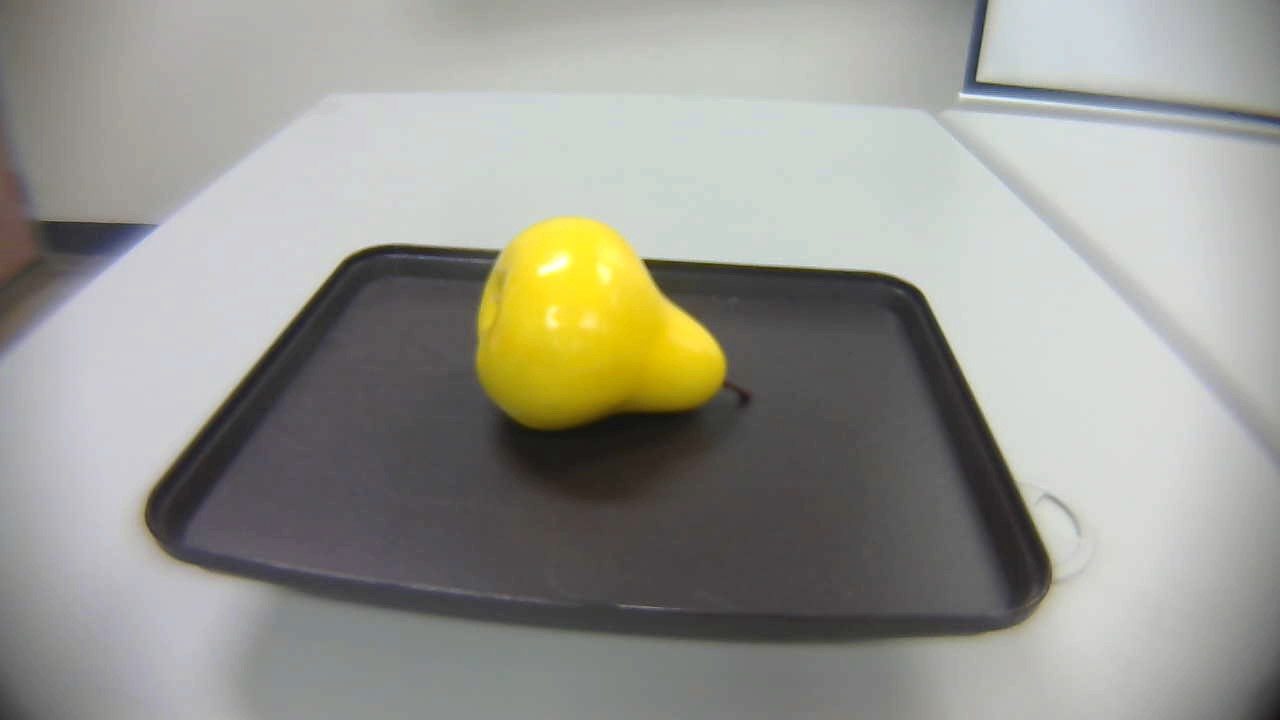yellow pear: (475, 205, 757, 442)
